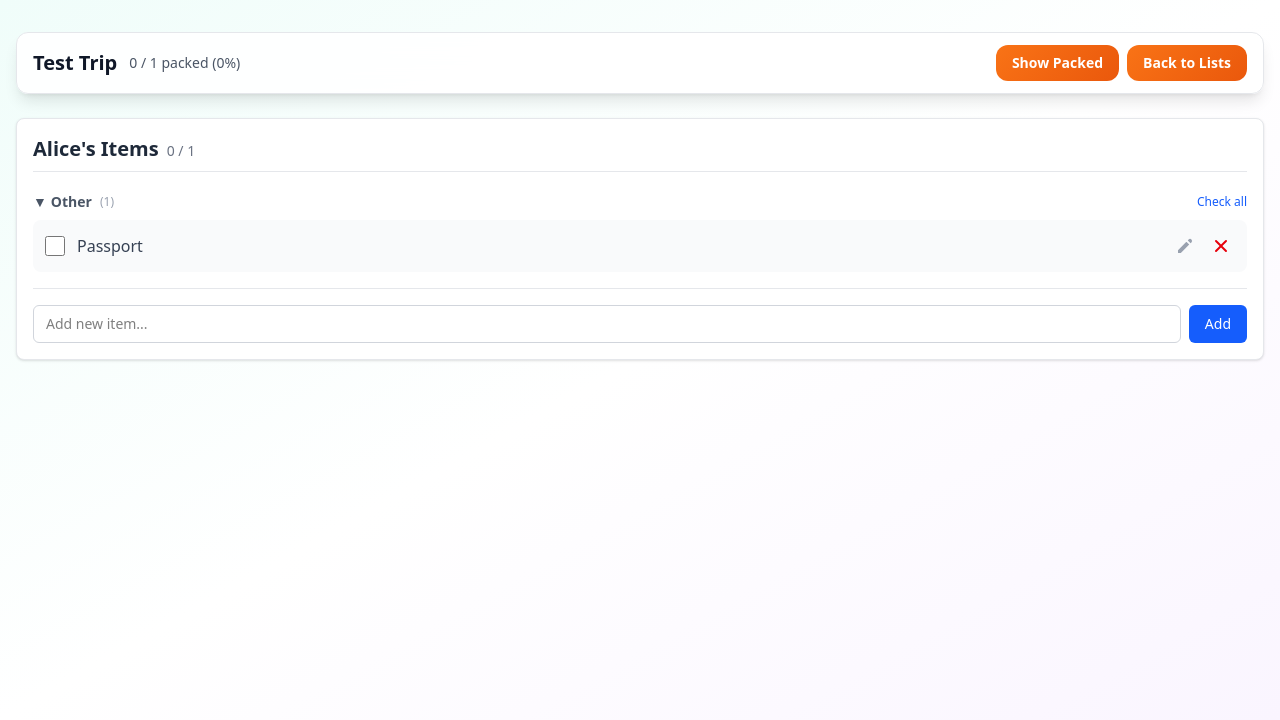
Scenario: ViewPackingList item deletion confirmation › does not delete item when Cancel is clicked in confirmation dialog
Expected: the text "Passport" is shown, [77,234,143,258]
Step 1. Click the button titled "Delete item" → (1221, 246), box [1207,232,1235,260]
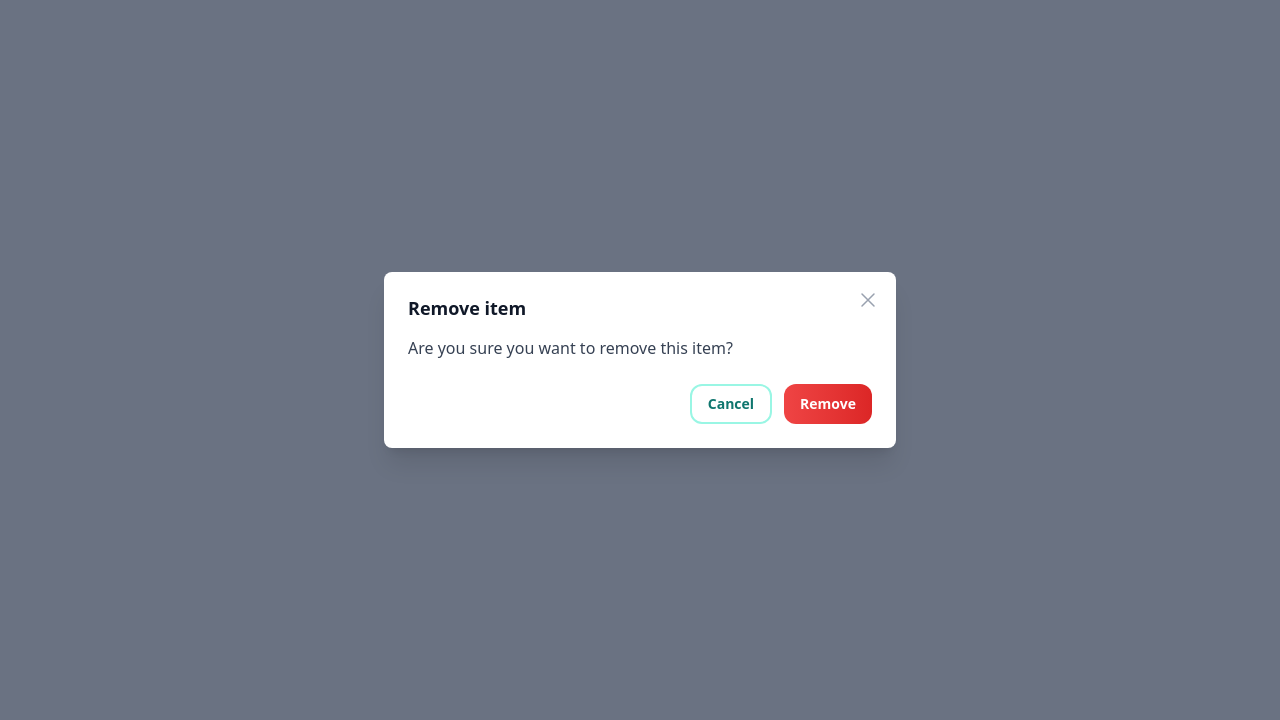
Step 2. Click the button "Cancel" → (731, 404), box [690,384,772,424]
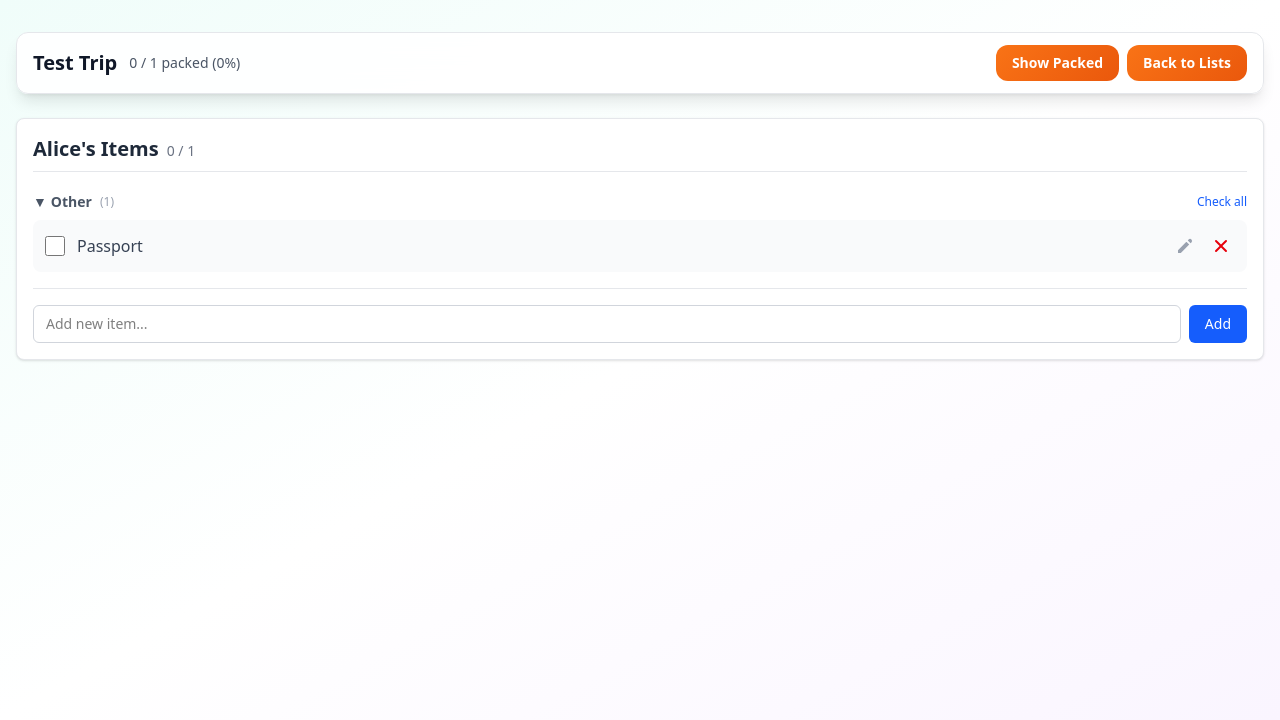
Expected: the text "Passport" is shown, [77,234,143,258]
Now the text "Are you sure you want to remove this item?" is gone
